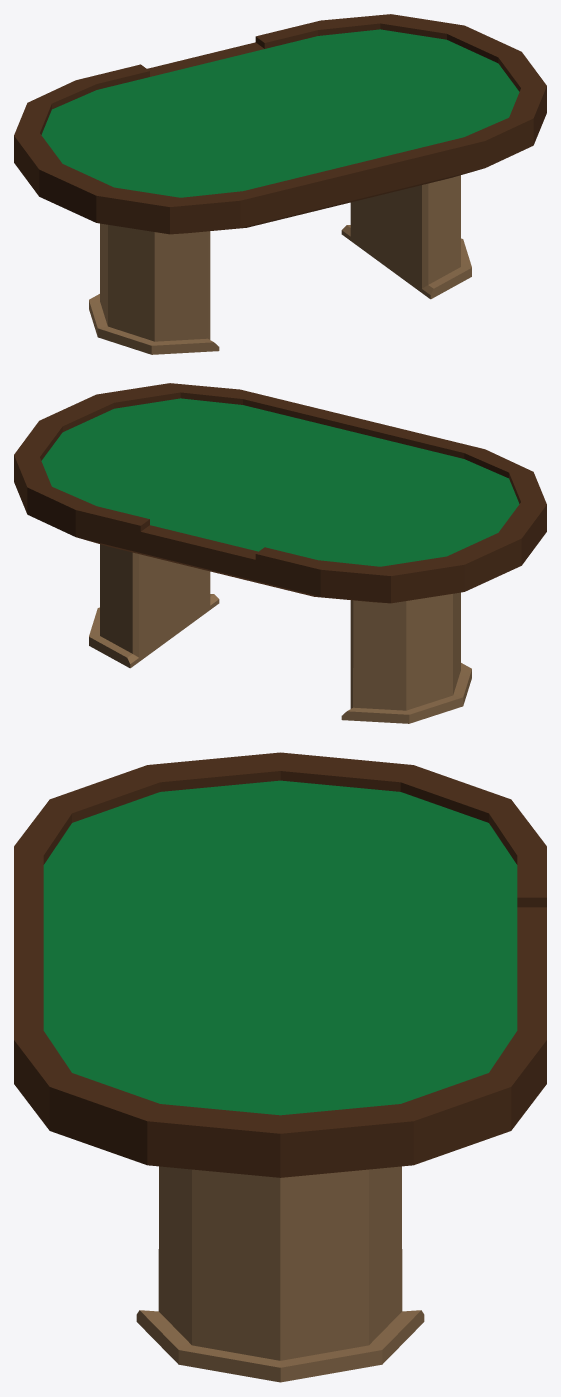
File: poker_table.fbx
The picture shows the model from 3 angles, top to bottom: view 1: azimuth 30°, elevation 25°; view 2: azimuth 150°, elevation 25°; view 3: azimuth 270°, elevation 25°; orthographic projection. The views are drawn at different scales.
Parts seen in each view (by area): view 1: Poker_Table1_Poker_Table_Legs; view 2: Poker_Table1_Poker_Table_Legs; view 3: Poker_Table1_Poker_Table_Legs.
Boxes of the visible parts, x1,y1,x2,y2 form: Poker_Table1_Poker_Table_Legs: (14,14,546,354); Poker_Table1_Poker_Table_Legs: (14,383,546,723); Poker_Table1_Poker_Table_Legs: (14,752,546,1382).
Bounding box in the file's own units: 3.39 × 1.22 × 2.
